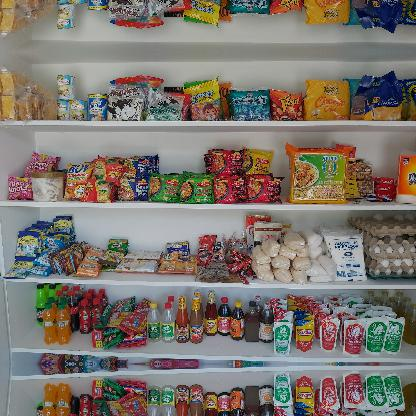Lady-s-Choice: (29, 171, 63, 201)
